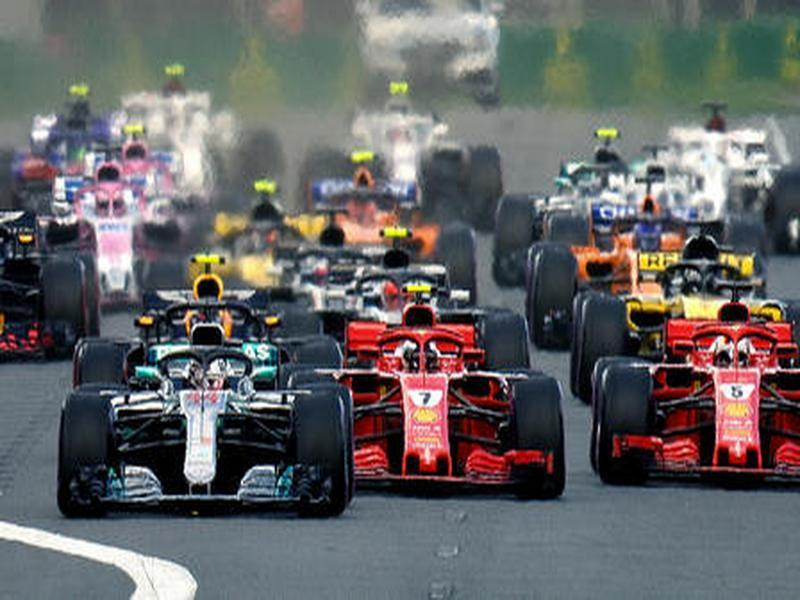f1: (65, 347, 371, 525), (298, 344, 575, 511), (582, 332, 800, 502), (68, 304, 354, 417), (577, 260, 800, 373), (137, 259, 344, 368), (341, 289, 537, 396)
